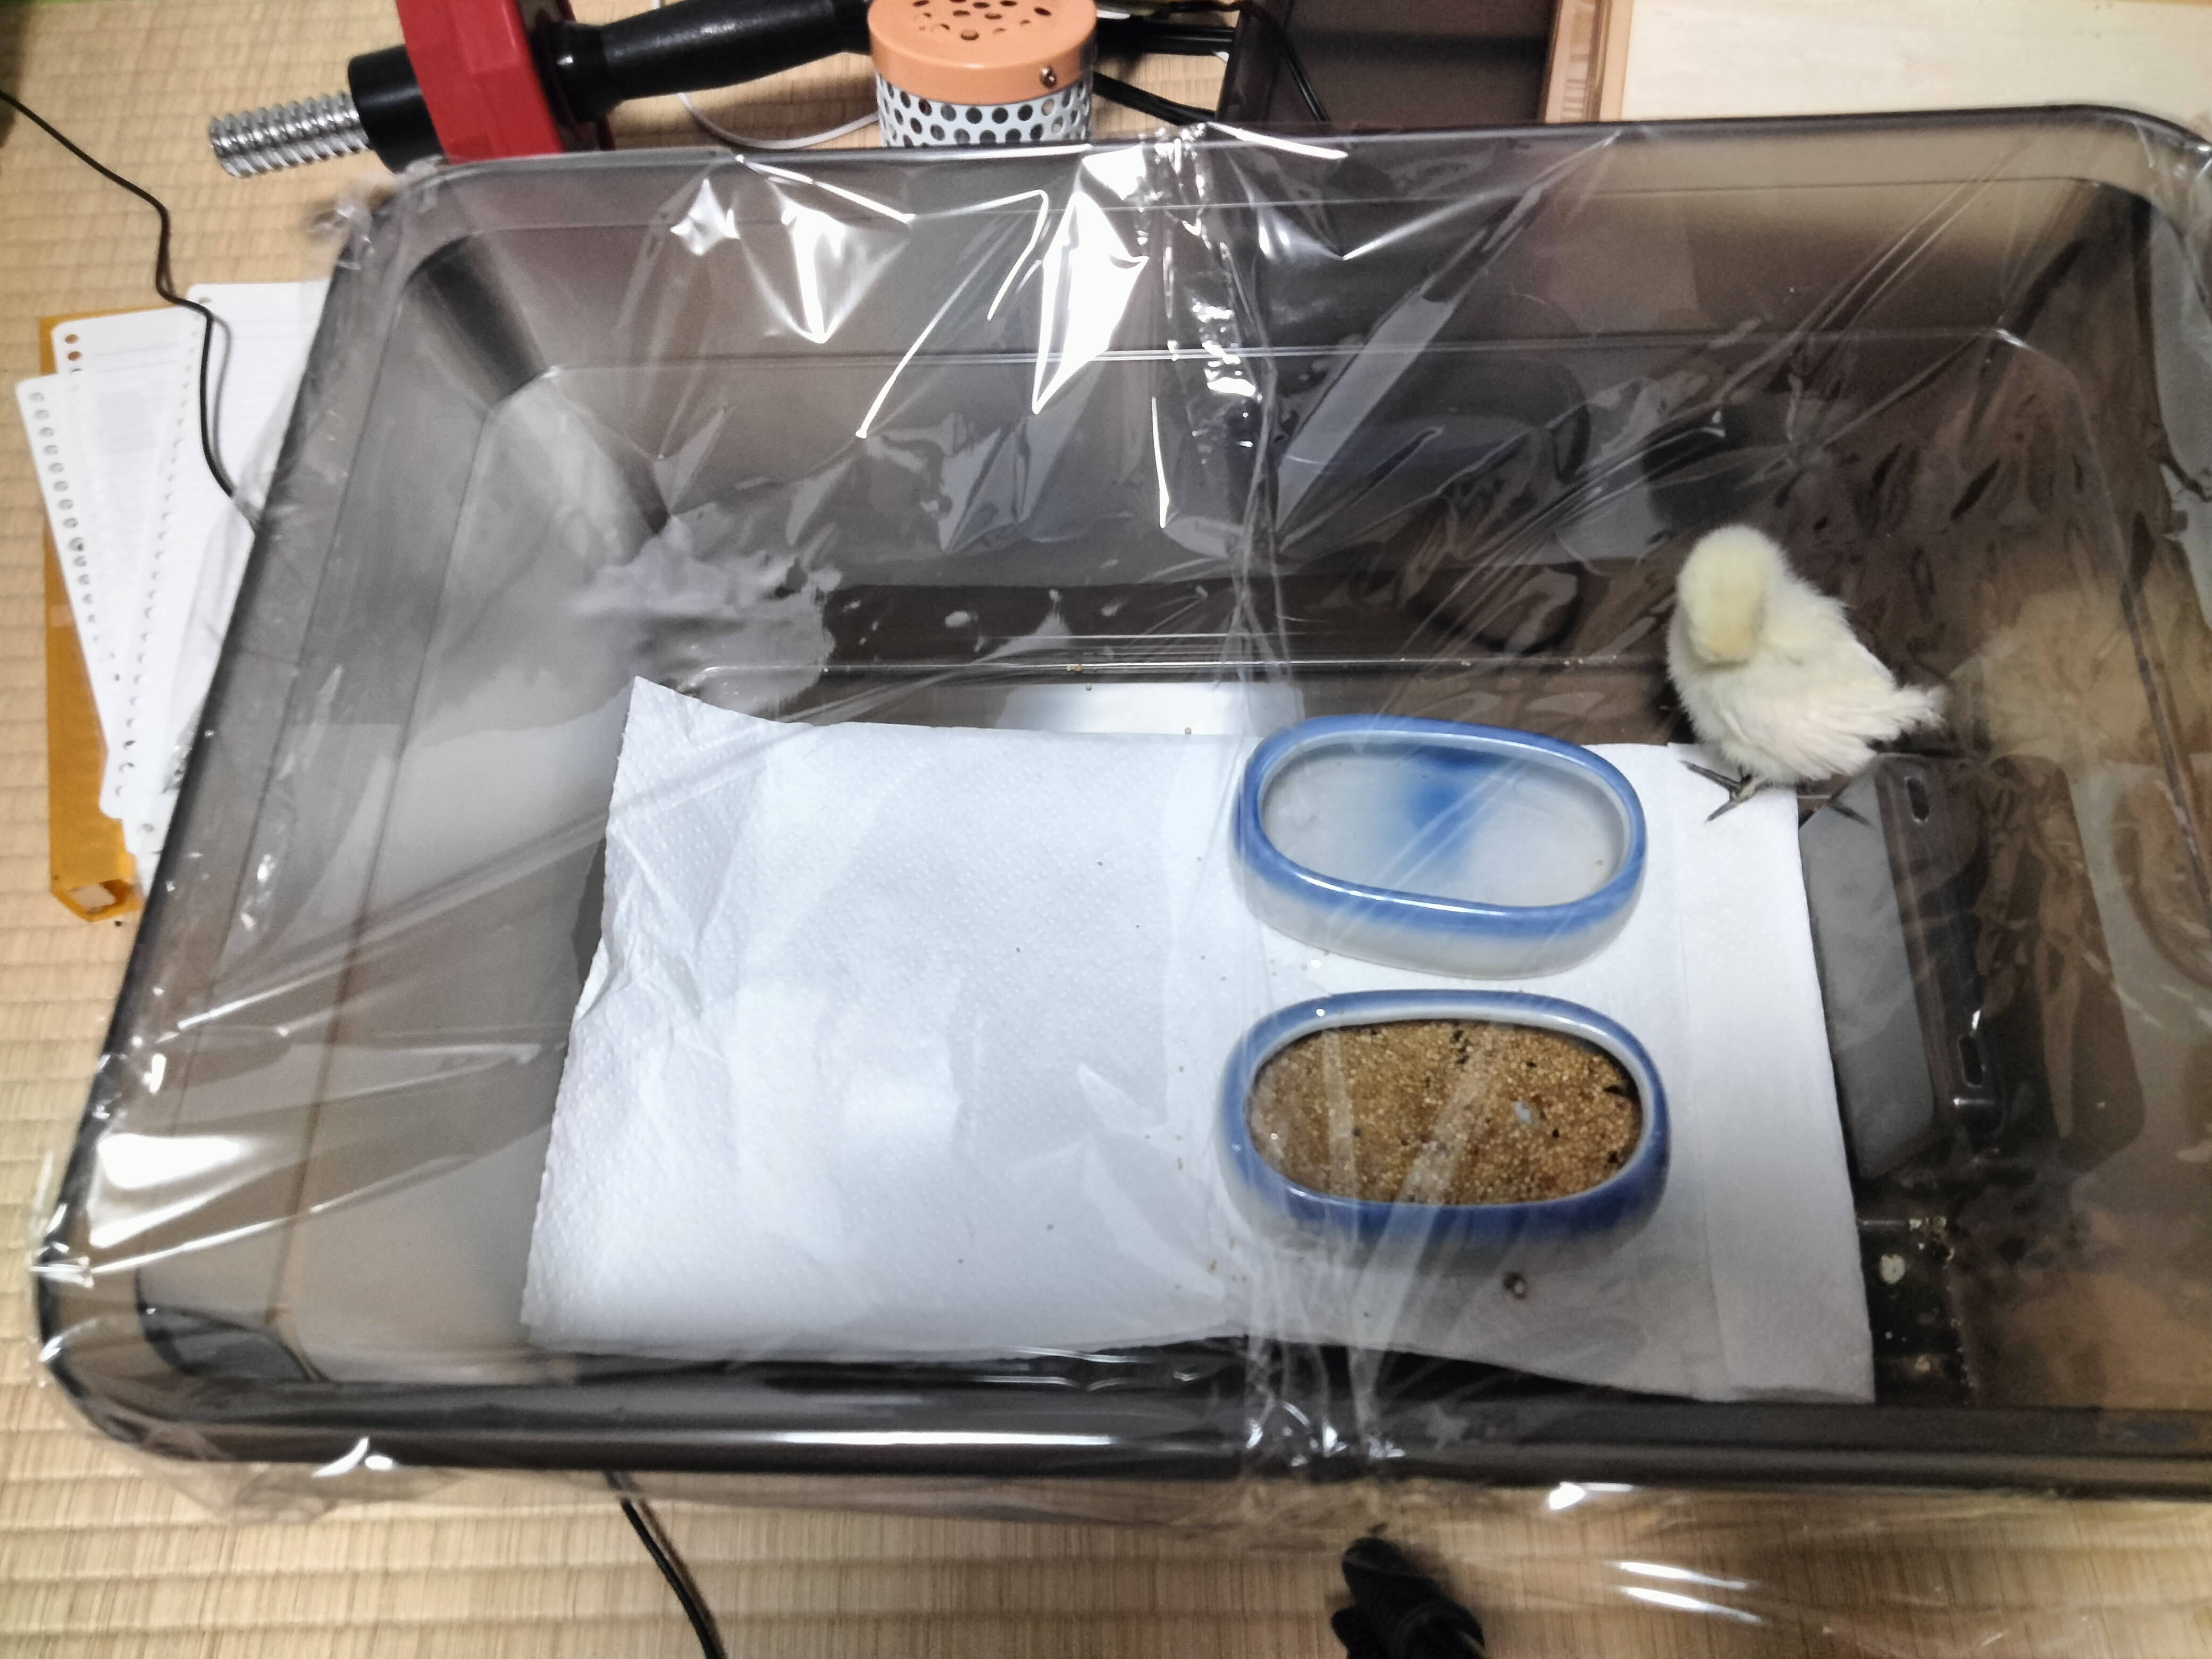shiro: (1623, 493, 1965, 845)
